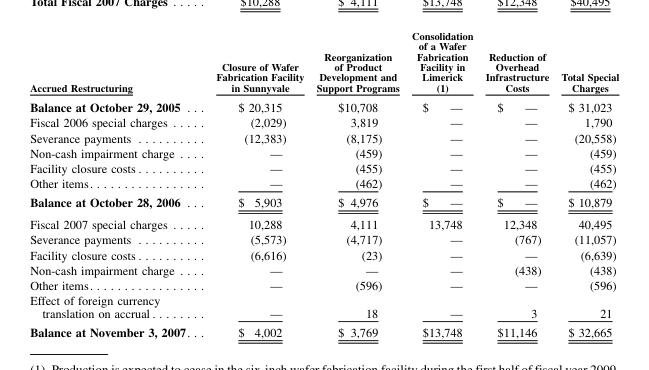table: (29, 29, 618, 338)
table column: (29, 29, 202, 338), (202, 29, 309, 338), (309, 29, 404, 338), (478, 29, 554, 338), (404, 29, 478, 338), (554, 29, 618, 338)
table column header: (29, 29, 618, 96)
table row: (29, 29, 618, 96), (29, 292, 618, 322), (29, 192, 618, 213), (29, 96, 618, 114), (29, 213, 618, 231), (29, 175, 618, 192), (29, 144, 618, 160), (29, 246, 618, 262), (29, 322, 618, 338), (29, 114, 618, 129), (29, 129, 618, 144), (29, 160, 618, 175), (29, 231, 618, 246), (29, 262, 618, 277), (29, 277, 618, 292)
